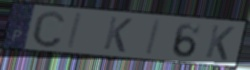6: (171, 21, 202, 59)
C: (30, 9, 67, 49)
I: (65, 11, 85, 51), (143, 18, 163, 57)
K: (203, 23, 237, 63), (101, 15, 134, 54)
